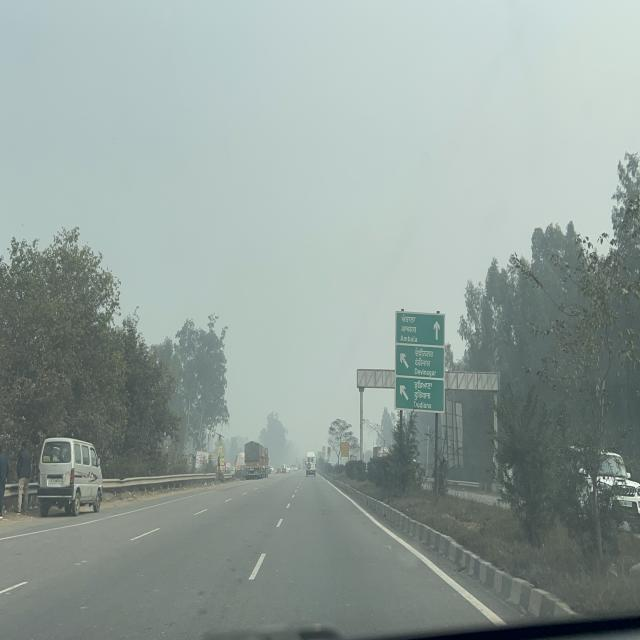GENERAL: (392, 311, 446, 415)
